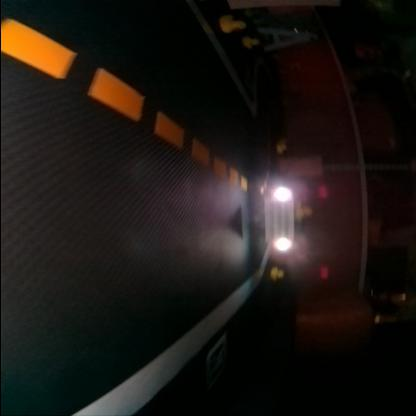Duckie: (220, 14, 244, 32), (294, 202, 310, 219), (270, 265, 284, 280), (242, 36, 258, 46)
Duckiebot: (255, 186, 300, 252)
QR code: (204, 334, 230, 382)
